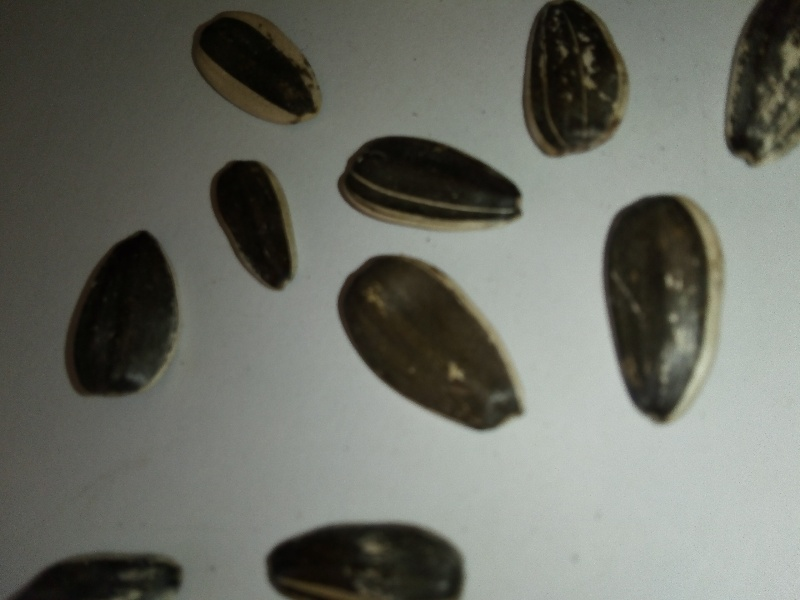girasol: (326, 249, 553, 443), (582, 185, 748, 437), (49, 228, 191, 410), (328, 127, 534, 235), (518, 2, 631, 173), (200, 155, 307, 302)
